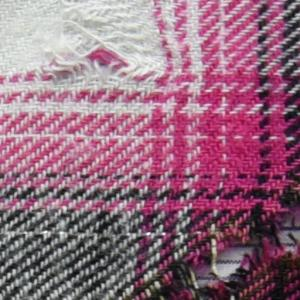Damage: (114, 183, 300, 300), (1, 1, 182, 104)
